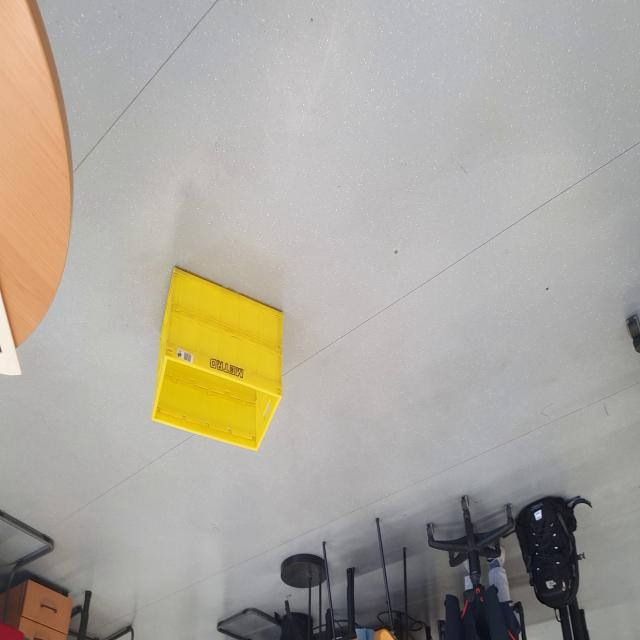box: (148, 258, 290, 463)
